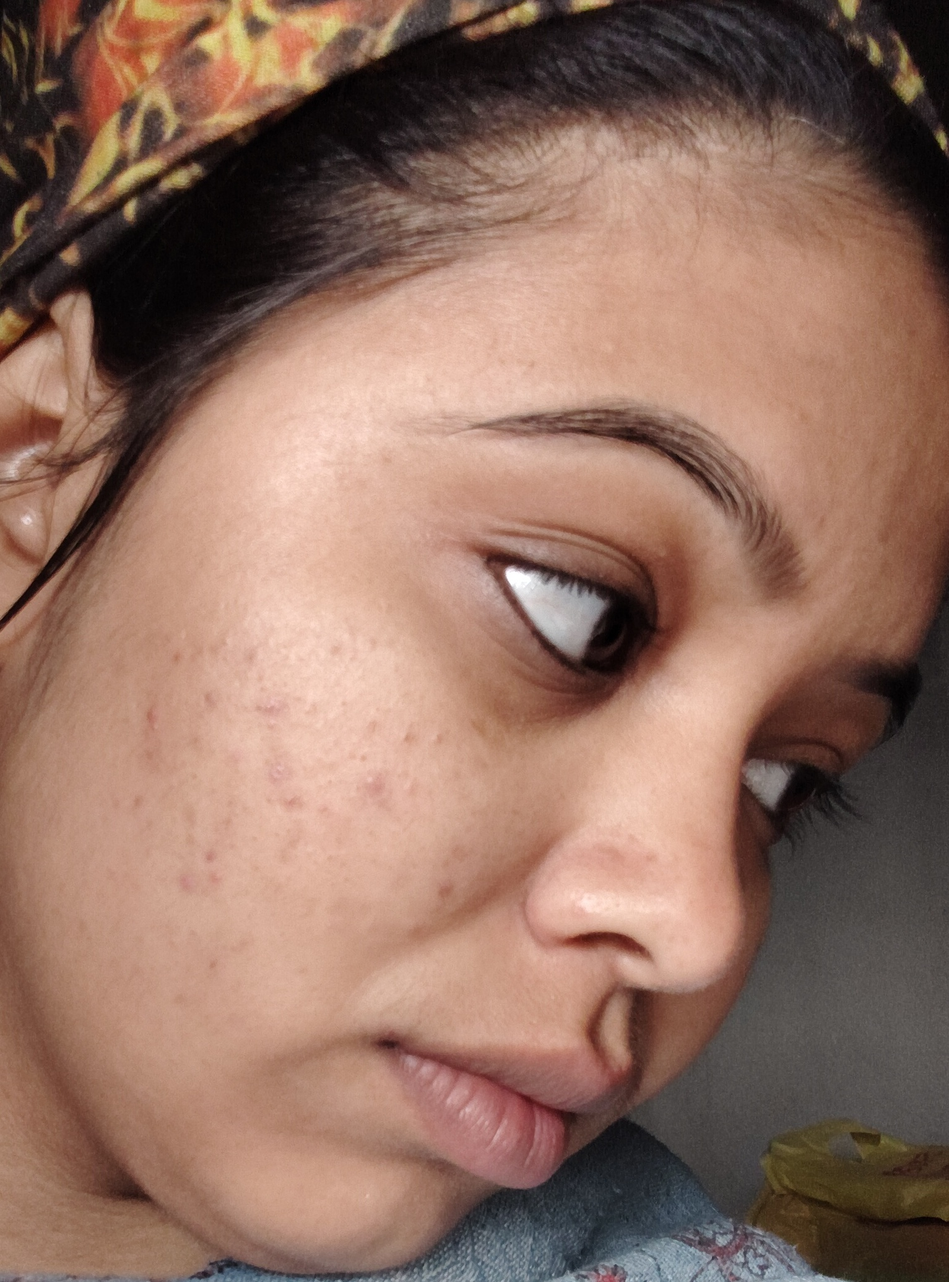closed_comedone: (319, 635, 416, 679), (393, 715, 465, 760), (190, 831, 241, 891), (258, 681, 302, 745), (190, 675, 232, 721), (258, 789, 308, 821)
papule: (344, 764, 408, 825)
